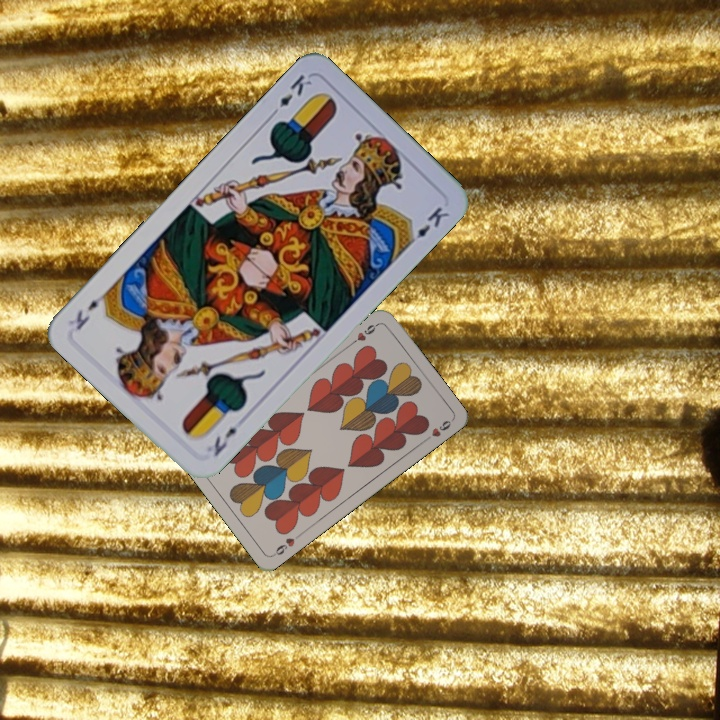EK: (266, 70, 315, 120), (209, 423, 240, 460)
H9: (269, 530, 304, 559), (346, 319, 381, 348)
